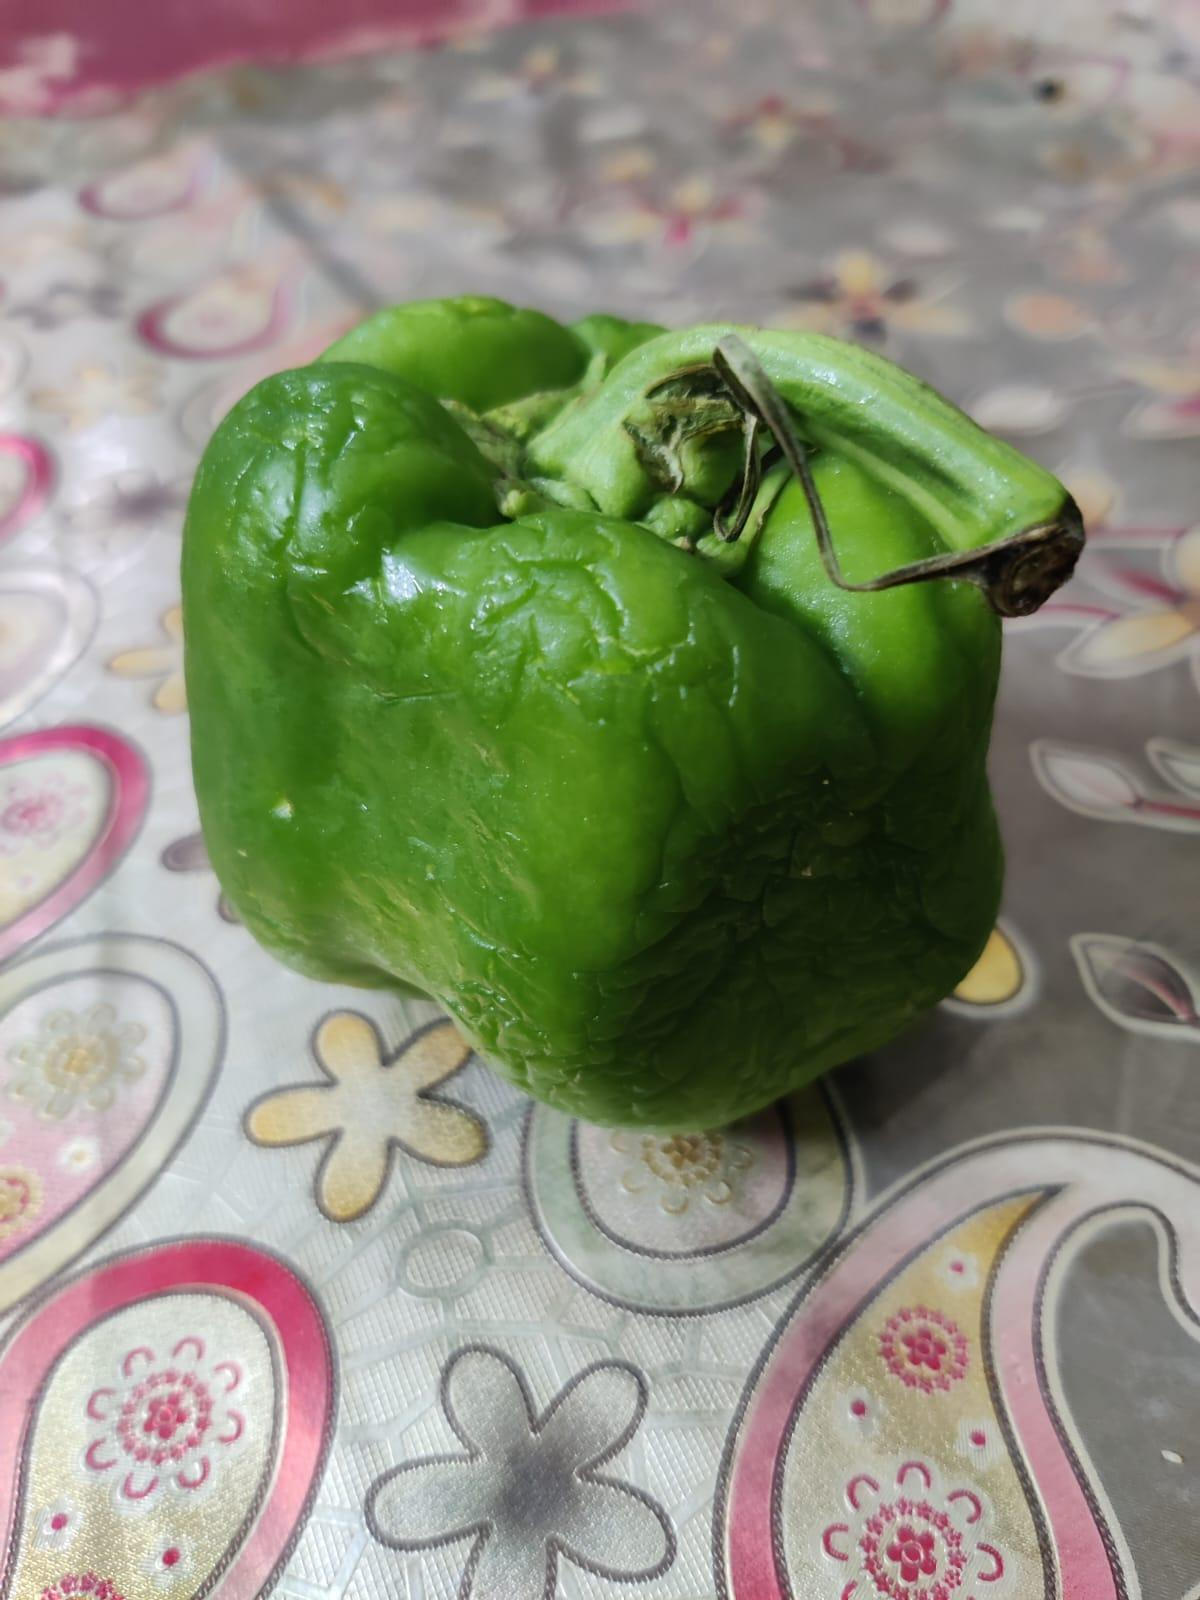non-mango: (180, 287, 1066, 1121)
